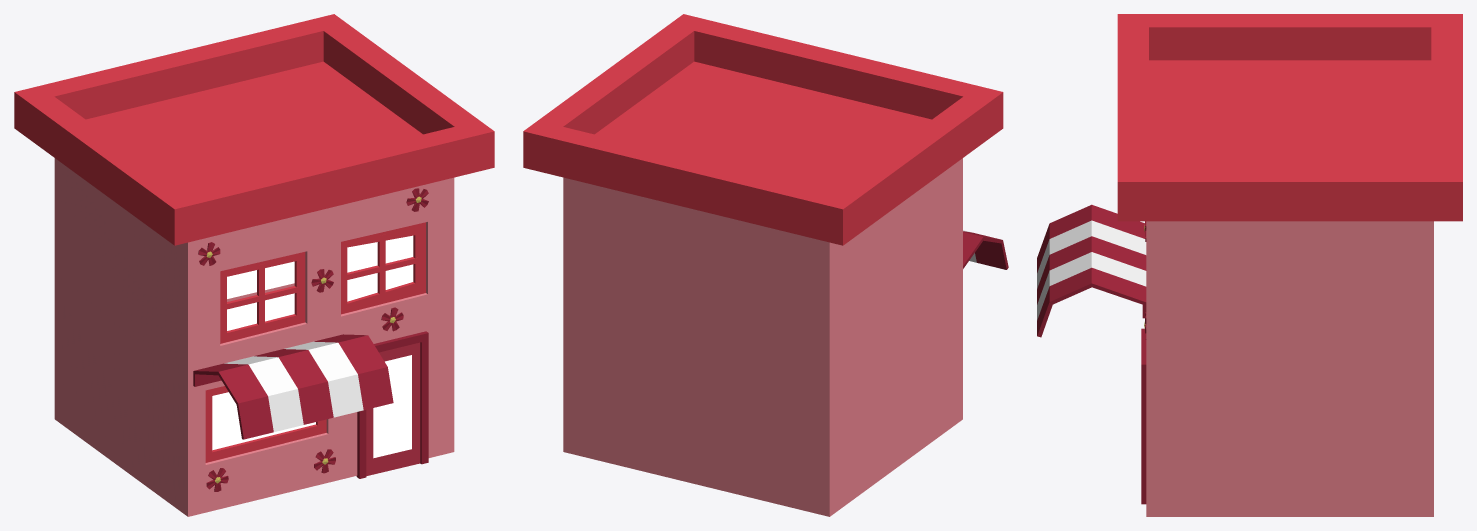
The model's file is Flower Shop.fbx.
3 renders of one model, left to right at view 1: azimuth 30°, elevation 25°; view 2: azimuth 150°, elevation 25°; view 3: azimuth 270°, elevation 25°, orthographic. The views are drawn at different scales.
Visible parts, largest first — view 1: Plane; view 2: Plane; view 3: Plane.
Part boxes in pixels (x1,y1,x2,y2): Plane: (14, 14, 494, 516); Plane: (523, 14, 1008, 516); Plane: (1037, 14, 1462, 516).
Size of the model in its own units: 1068 by 1040 by 1142.
